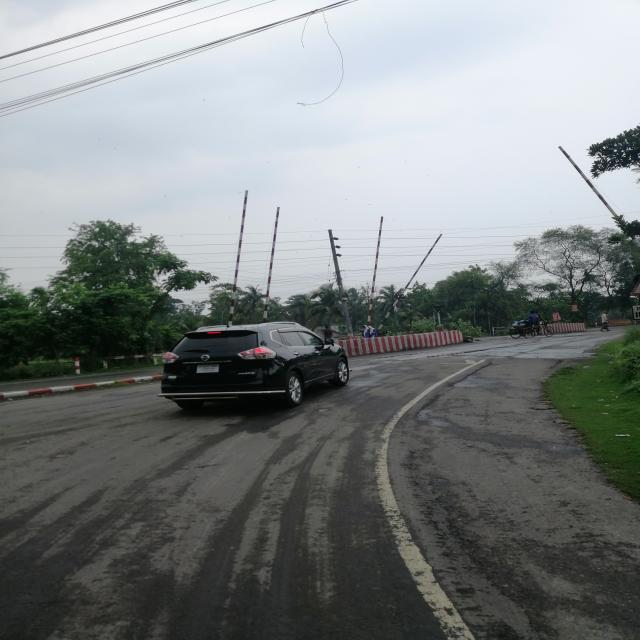Car: (148, 303, 400, 442)
